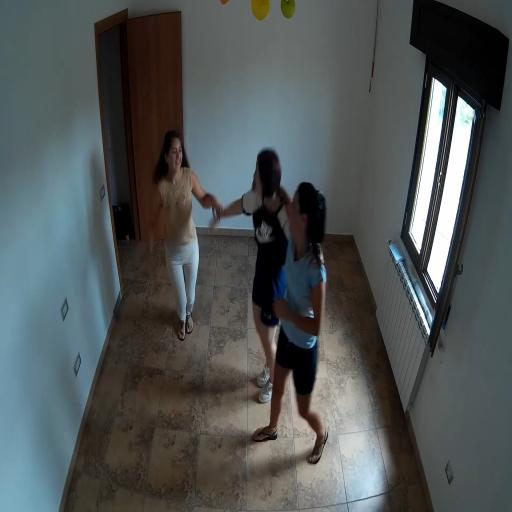nao-violencia: (133, 118, 345, 471)
